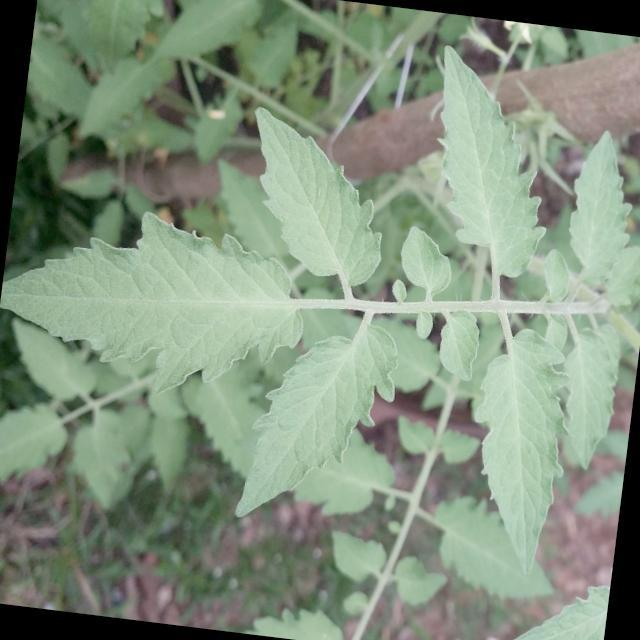Tomato healthy leaf: (0, 194, 320, 413), (236, 310, 404, 536), (416, 45, 566, 281), (453, 322, 581, 581), (234, 106, 397, 292), (560, 125, 640, 289), (552, 328, 626, 476), (396, 228, 458, 294), (434, 309, 482, 381)
